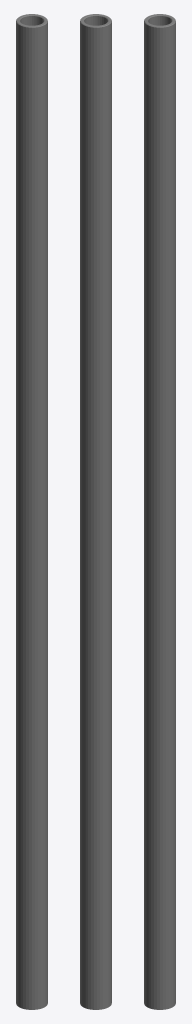
The model's file is Casing.glb.
3 views of the same model, side by side, from view 1: azimuth 90°, elevation 25°; view 2: azimuth 150°, elevation 25°; view 3: azimuth 270°, elevation 25° (orthographic).
Parts seen in each view (by area): view 1: Casing; view 2: Casing; view 3: Casing.
Boxes of the visible parts, bbox=[...] form: Casing: bbox=[16, 14, 47, 1009]; Casing: bbox=[80, 14, 111, 1009]; Casing: bbox=[144, 14, 175, 1009].
Bounding box in the file's own units: 2.93 × 100 × 2.93.
Materials: 1 (1 with a texture image).
